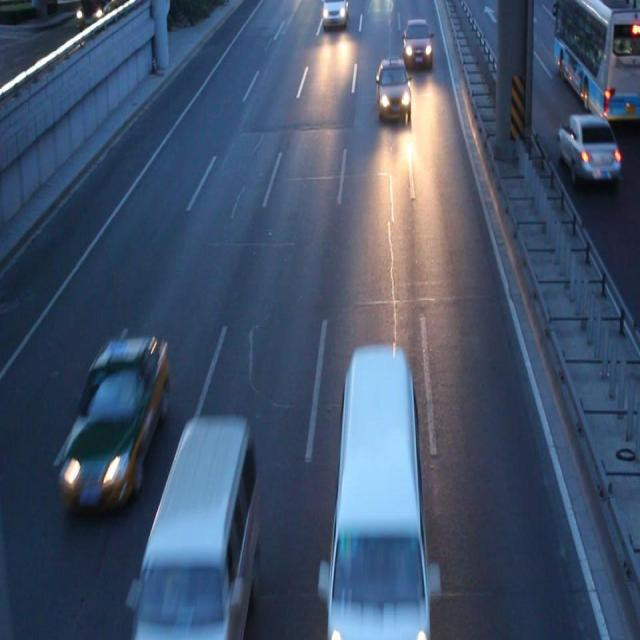car: (60, 342, 166, 514), (557, 114, 619, 178), (376, 60, 410, 115), (400, 20, 431, 66), (321, 1, 347, 25)
truck: (334, 351, 426, 626), (142, 418, 255, 640)
van: (552, 1, 640, 118)
